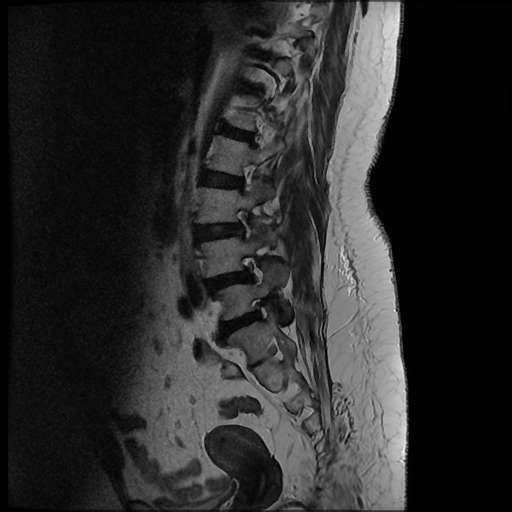RFS0: (225, 199, 261, 250), (235, 248, 273, 292)
RFS1: (240, 294, 275, 330)
